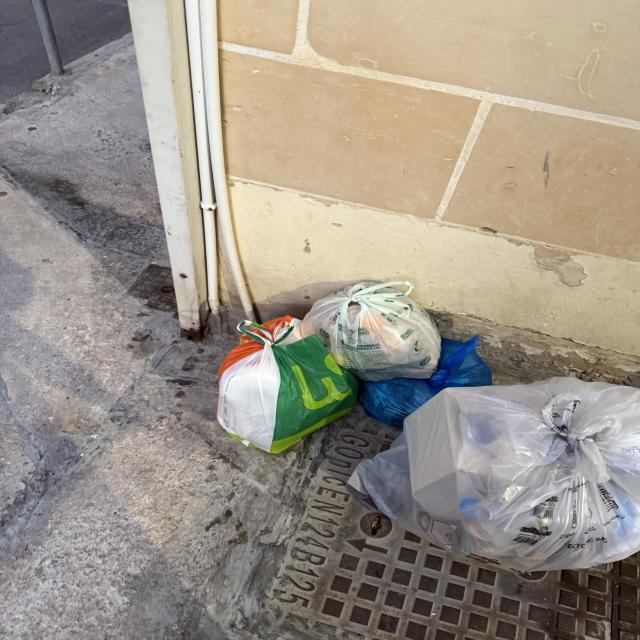Organic Waste -White Bags-: (216, 278, 440, 452)
Others Waste: (363, 336, 494, 424)
Recyclable Material -Grey Bags-: (349, 382, 640, 571)
